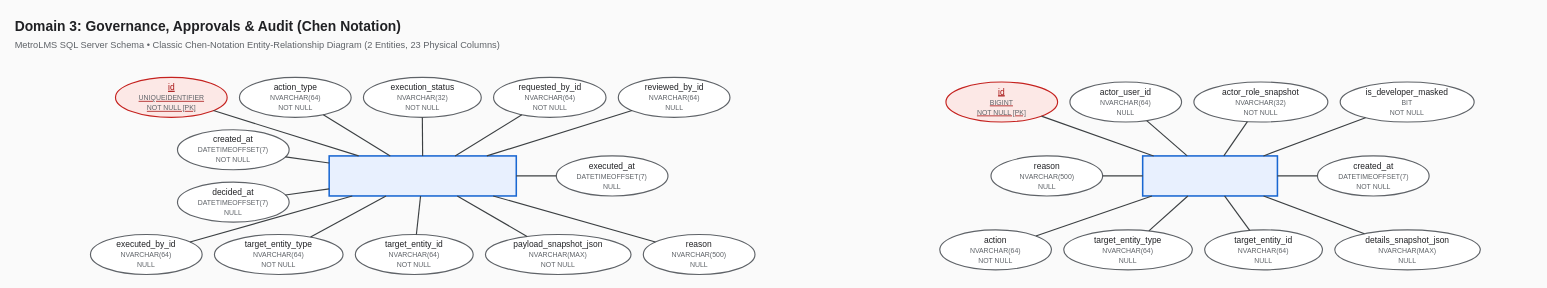
Some shapes in this 1547 by 288 pixel diagram are drawn without their labels. The shapes that lost their labels are listed below. From the top down, each one's centre as x and y in pixels, then its label:
At pixel 422 175: "PendingApprovalRequest".
At pixel 1210 175: "AuditLogEntry".
